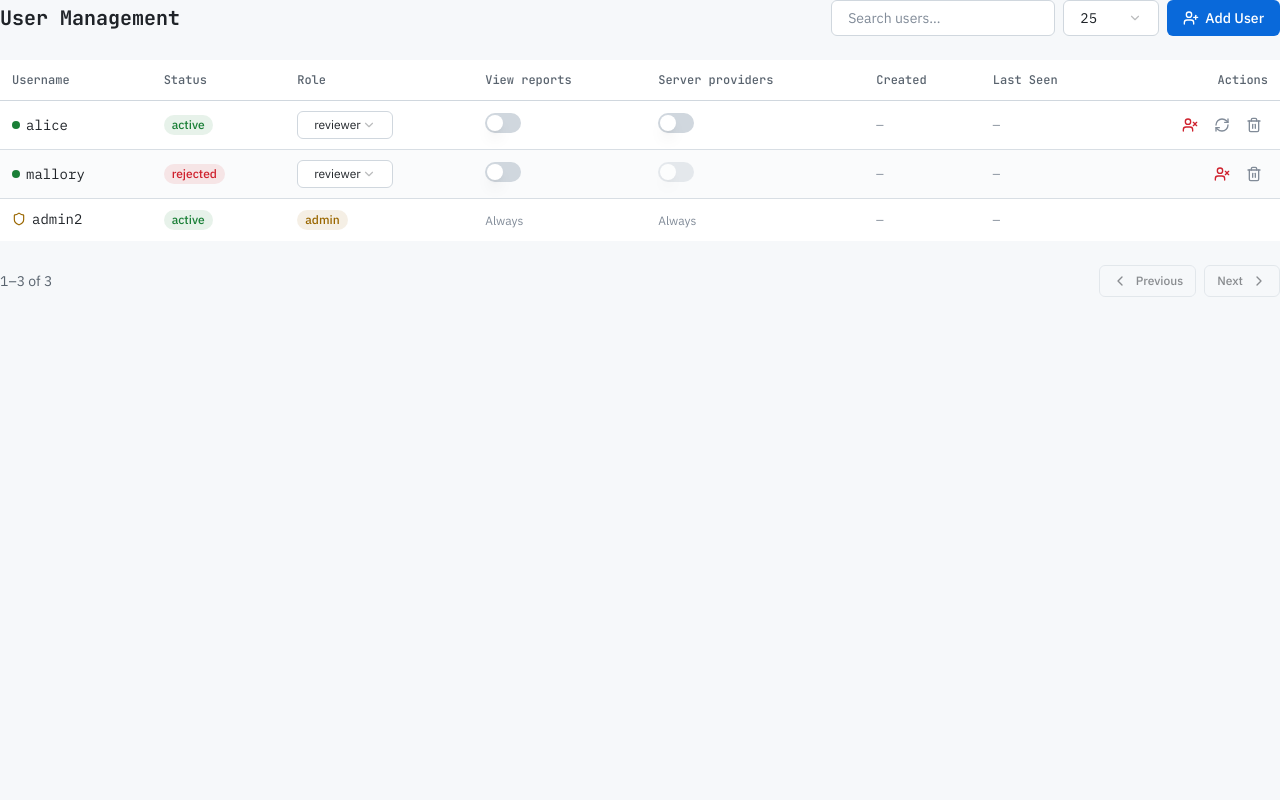
Test case: admin API key rotation › keeps the confirmation open and shows the error when rotation fails
Click the button named "Rotate key for alice": (1222, 124) [1208, 110, 1236, 138]
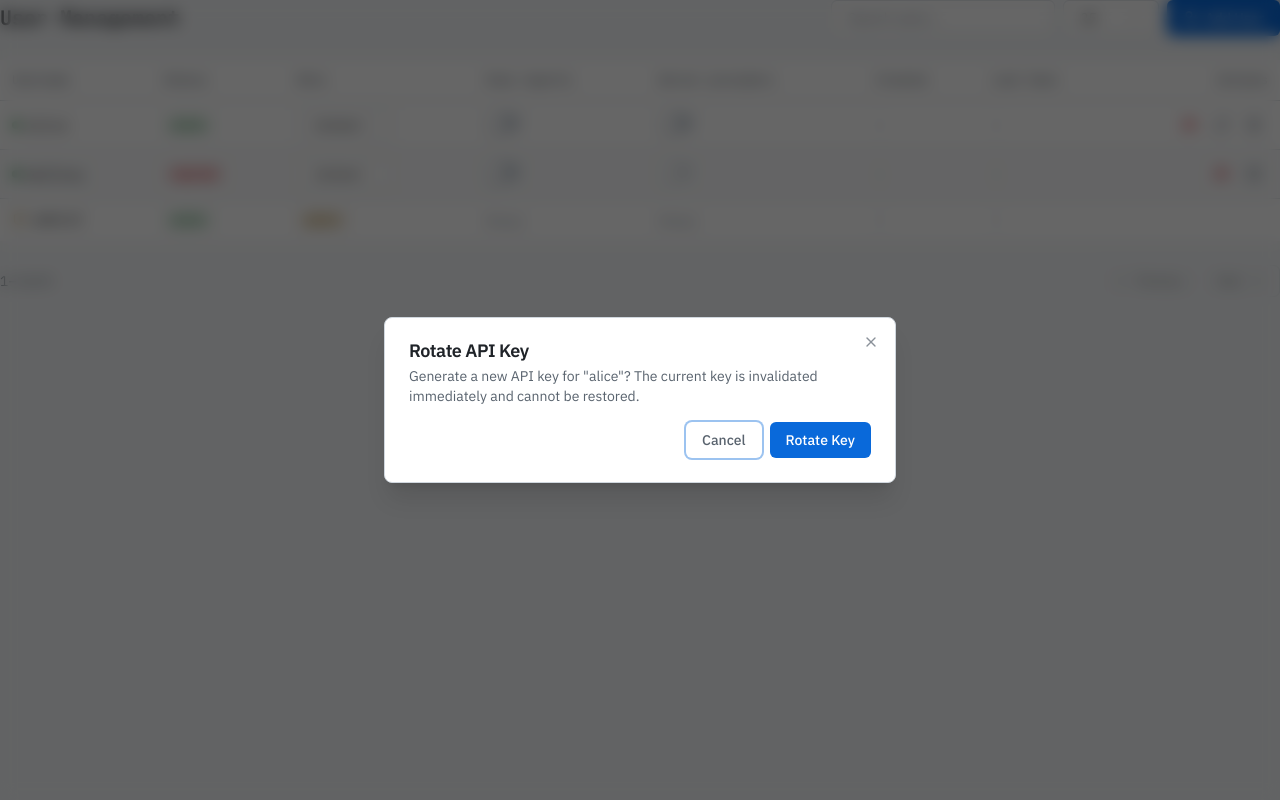
Click the button "Rotate Key": (820, 440) [770, 422, 871, 458]
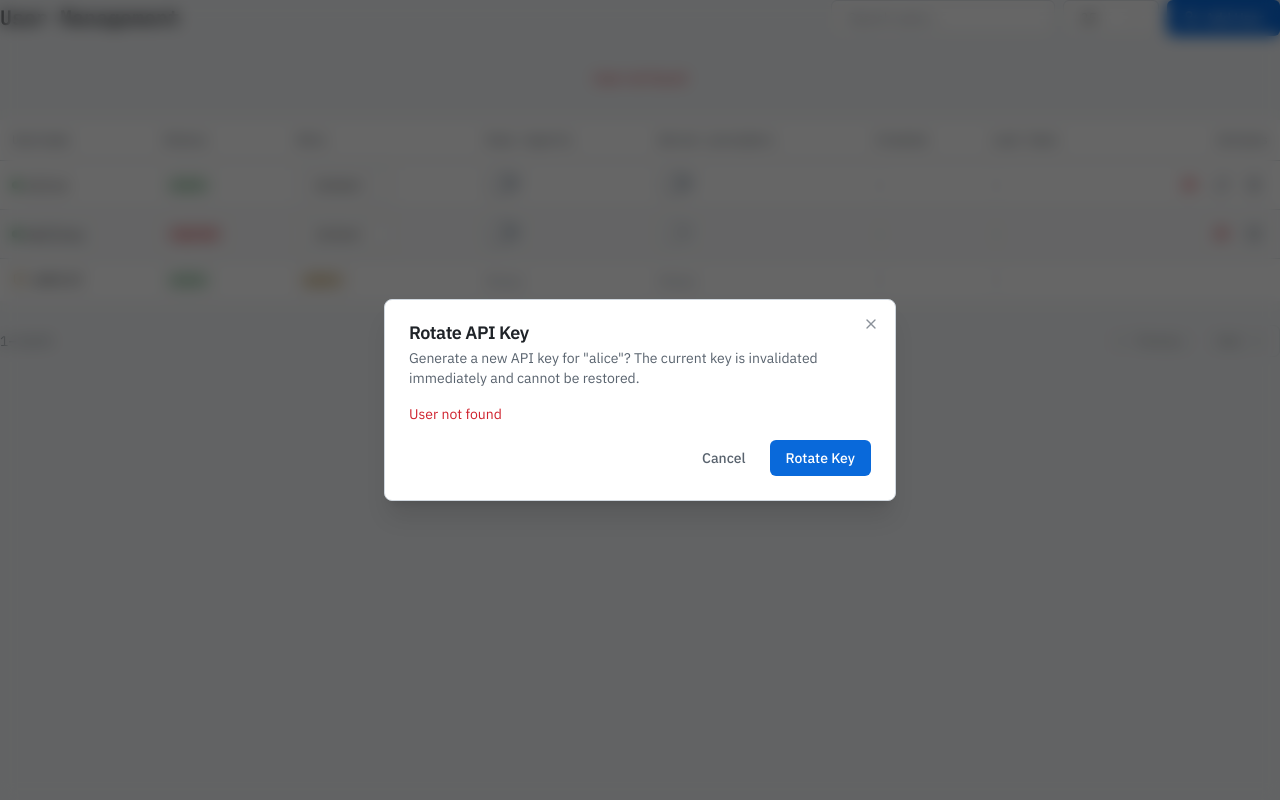
Result: the message reads "User not found" at [409, 405, 502, 423]
